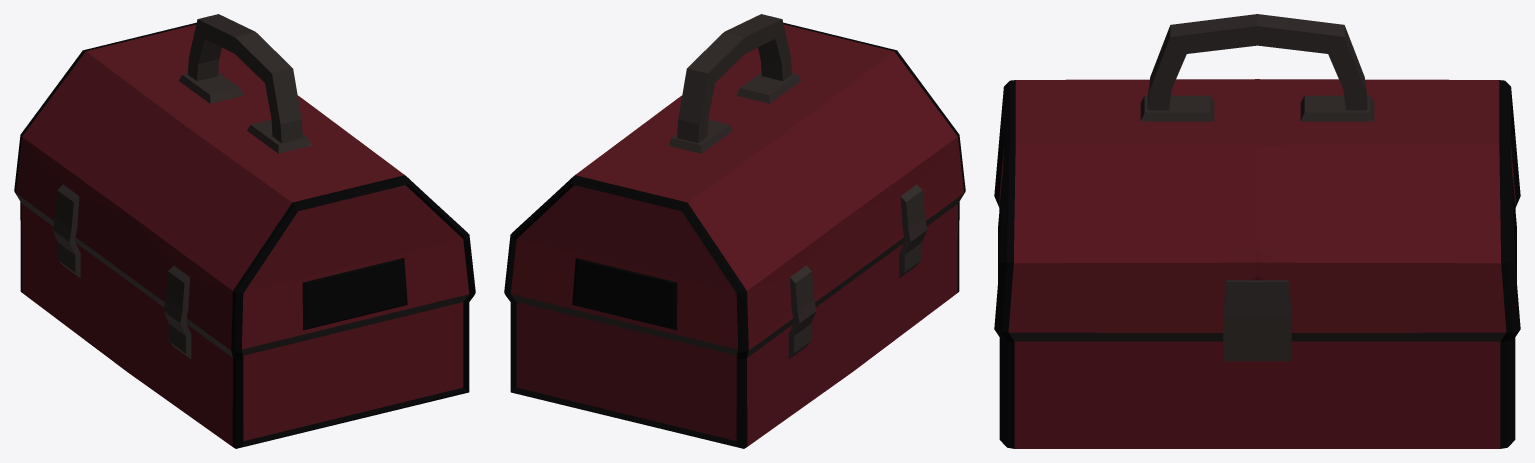
File: m_Item_fix_box.FBX
3 renders of one model, left to right at view 1: azimuth 30°, elevation 25°; view 2: azimuth 150°, elevation 25°; view 3: azimuth 270°, elevation 25°, orthographic. The views are drawn at different scales.
Parts seen in each view (by area): view 1: Cube.001; view 2: Cube.001; view 3: Cube.001.
Part boxes in pixels (x1=…): Cube.001: x1=14, y1=14, x2=475, y2=448; Cube.001: x1=504, y1=14, x2=965, y2=448; Cube.001: x1=994, y1=14, x2=1520, y2=448.
Size of the model in its own units: 32.03 by 37.19 by 49.07.
Materials: 1 (1 with a texture image).
